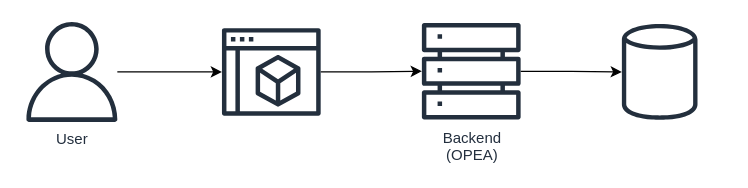
Some shapes in this 748 by 188 pixel diagram are drawn without their labels. Here are the shapes that lost their labels. From the top down, the box of each, then its label:
(221, 28, 320, 115): Streamlit (Vocab Generator)
(621, 21, 697, 121): Ollama (Model llama3.2:1b)
